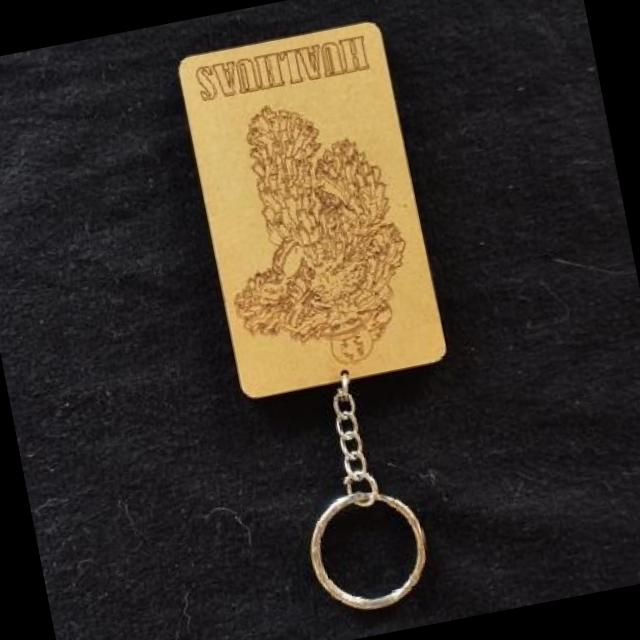Llavero: (198, 84, 428, 386)
